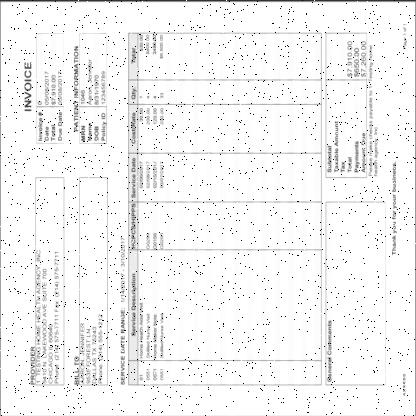Paragraph: (326, 39, 380, 176), (29, 247, 61, 384), (73, 44, 107, 144), (73, 312, 104, 385), (36, 68, 64, 142), (120, 235, 126, 386), (390, 160, 398, 256), (22, 59, 33, 113), (326, 317, 332, 384), (402, 22, 408, 50), (402, 372, 406, 396)
Table: (128, 32, 166, 384)
